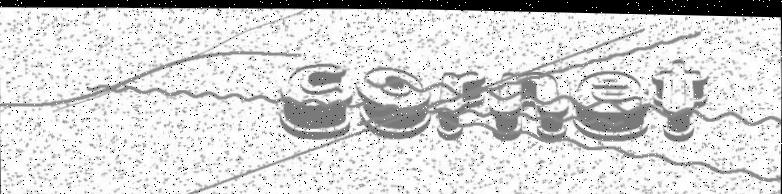c: (278, 59, 354, 140)
e: (571, 65, 652, 140)
n: (490, 68, 569, 140)
o: (354, 63, 432, 139)
r: (435, 67, 486, 140)
t: (650, 54, 710, 141)
